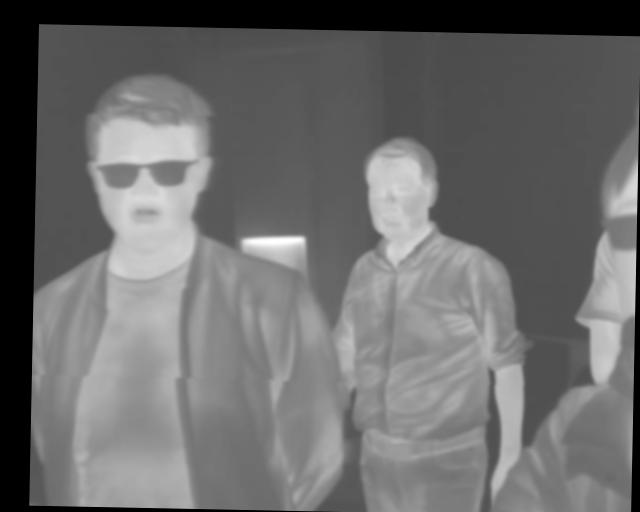face: (82, 70, 215, 252), (361, 134, 440, 240)
